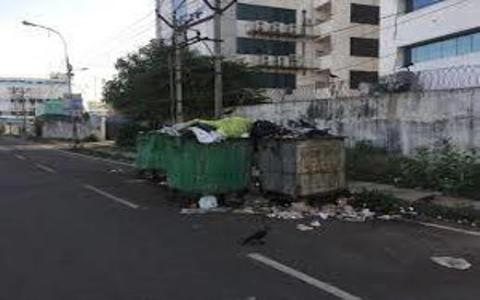overflowing garbage: (129, 110, 252, 226), (254, 112, 359, 234)
